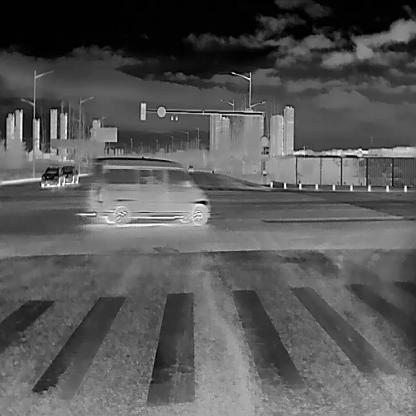car: (89, 155, 211, 225), (41, 166, 65, 187), (61, 164, 78, 184), (186, 164, 194, 172)
